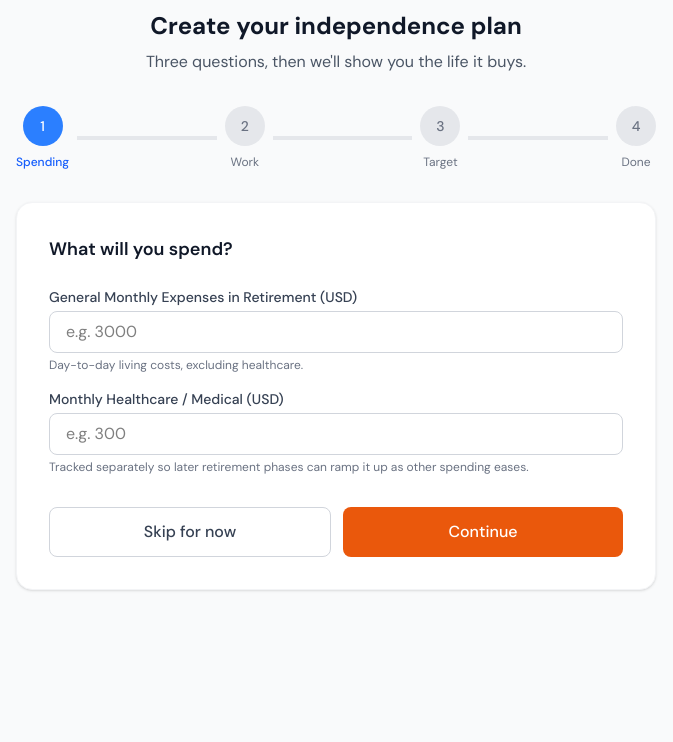
Test: /independence/setup — guided plan wizard › prefills the target age from settings and drops the DOB note
Click the button "Continue" at point(483, 532), box [343, 507, 623, 557]
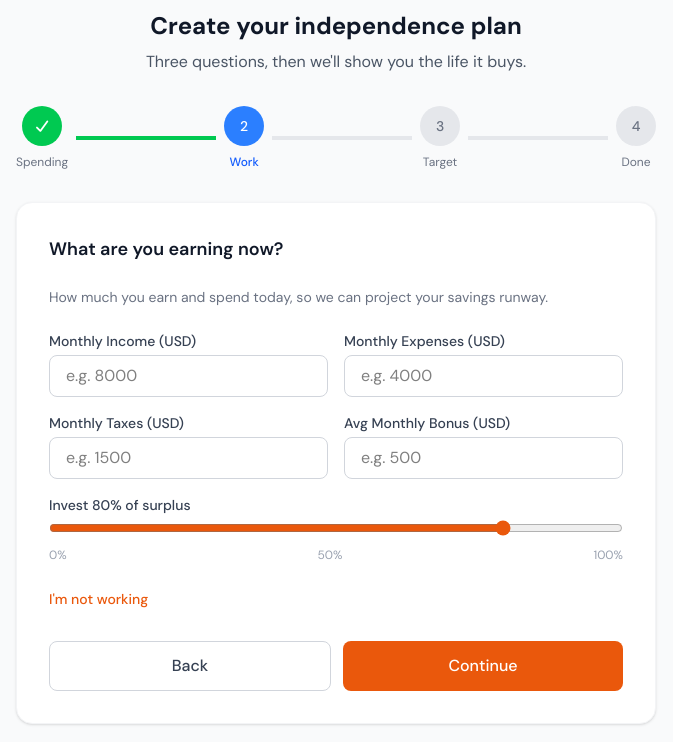
Check: the number field labelled "Monthly Income (USD)" is shown, box [49, 355, 328, 397]
Click the button "Continue" at point(483, 666), box [343, 641, 623, 691]
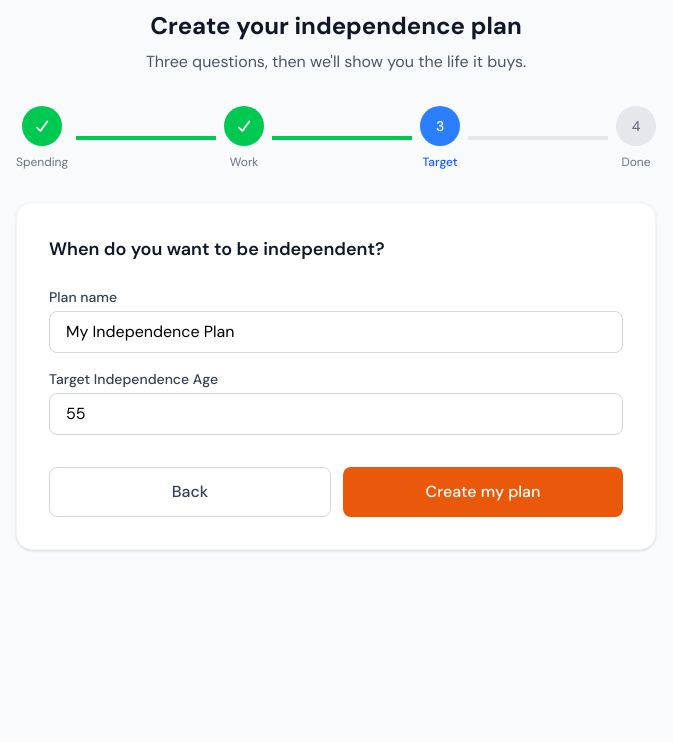
Check: the number field labelled "Target Independence Age" holds "55", box [49, 393, 623, 435]
